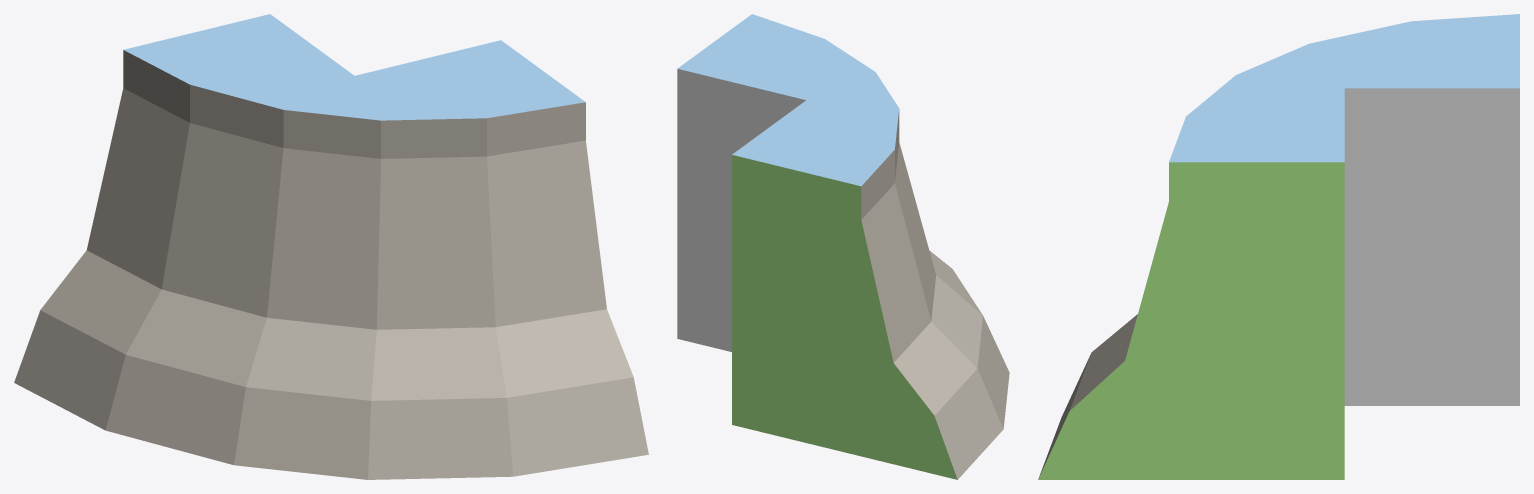
The model's file is Wall_Curve_Outer_3x3_Base.glb.
3 renders of one model, left to right at view 1: azimuth 30°, elevation 25°; view 2: azimuth 150°, elevation 25°; view 3: azimuth 270°, elevation 25°, orthographic. The views are drawn at different scales.
Parts seen in each view (by area): view 1: Wall_Curve_Outer_3x3_Base; view 2: Wall_Curve_Outer_3x3_Base; view 3: Wall_Curve_Outer_3x3_Base.
Part boxes in pixels (x1,y1,x2,y2): Wall_Curve_Outer_3x3_Base: [14, 14, 648, 479]; Wall_Curve_Outer_3x3_Base: [677, 14, 1009, 479]; Wall_Curve_Outer_3x3_Base: [1038, 14, 1519, 479].
Bounding box in the file's own units: 275 × 200 × 275.
